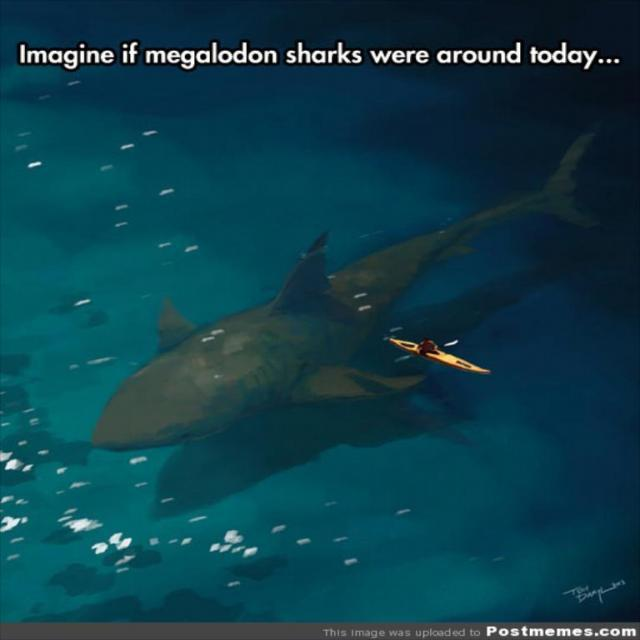Shark: (92, 136, 600, 454), (146, 252, 586, 516)
